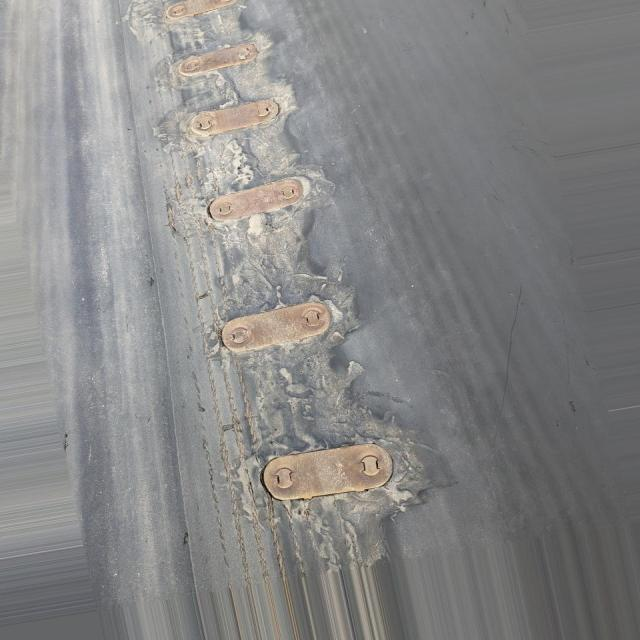patch work: (136, 2, 431, 545)
